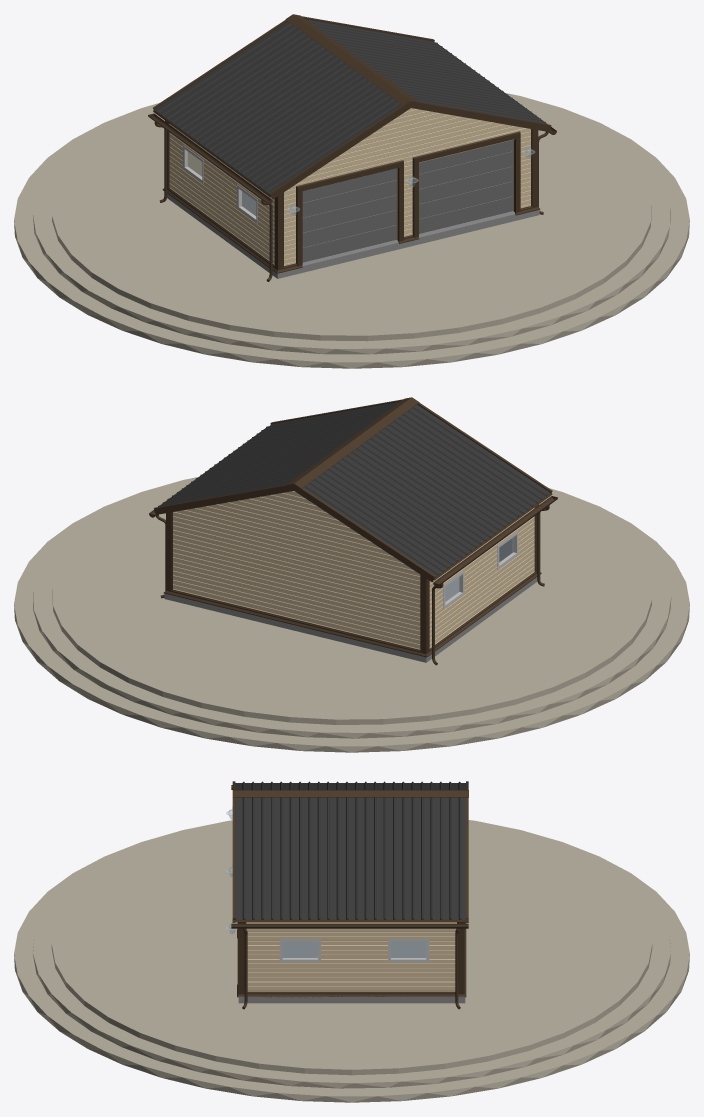
File: garage_8x6.glb
3 renders of one model, top to bottom at view 1: azimuth 30°, elevation 25°; view 2: azimuth 150°, elevation 25°; view 3: azimuth 270°, elevation 25°, orthographic.
Parts seen in each view (by area): view 1: ground, roof, walls, trim, gate, foundation, glass, windows; view 2: ground, walls, roof, trim, foundation, windows; view 3: ground, roof, walls, trim, foundation, glass, windows.
Boxes of the visible parts, <box> form: ground: <box>14,93,689,368</box>; roof: <box>154,19,545,194</box>; walls: <box>169,108,530,266</box>; trim: <box>148,14,556,281</box>; gate: <box>302,140,512,262</box>; foundation: <box>167,191,539,278</box>; glass: <box>188,148,534,215</box>; windows: <box>183,145,257,223</box>; ground: <box>14,477,689,752</box>; walls: <box>173,491,534,649</box>; roof: <box>158,401,551,577</box>; trim: <box>149,397,557,665</box>; foundation: <box>164,577,537,662</box>; windows: <box>443,531,518,609</box>; ground: <box>14,820,689,1102</box>; roof: <box>233,781,467,919</box>; walls: <box>246,922,456,991</box>; trim: <box>231,781,468,1009</box>; foundation: <box>238,941,465,1003</box>; glass: <box>226,809,425,957</box>; windows: <box>279,938,429,962</box>.
Size of the model in its own units: 18 by 4.97 by 18.
